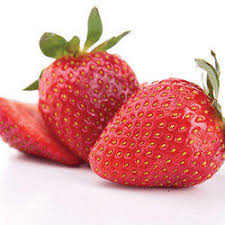strawberry: (87, 77, 225, 191), (38, 27, 141, 169)
